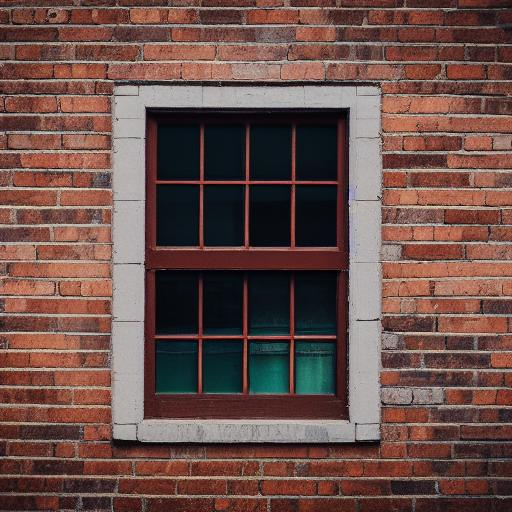Window: (109, 80, 385, 446)
